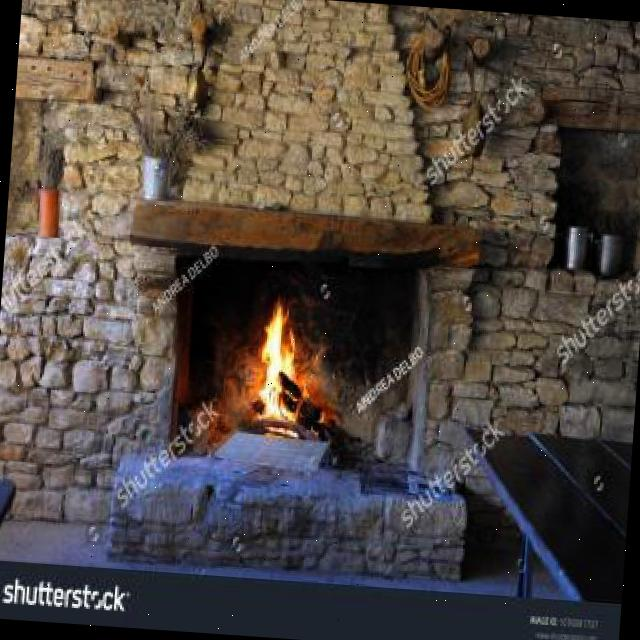fire: (250, 292, 322, 439)
